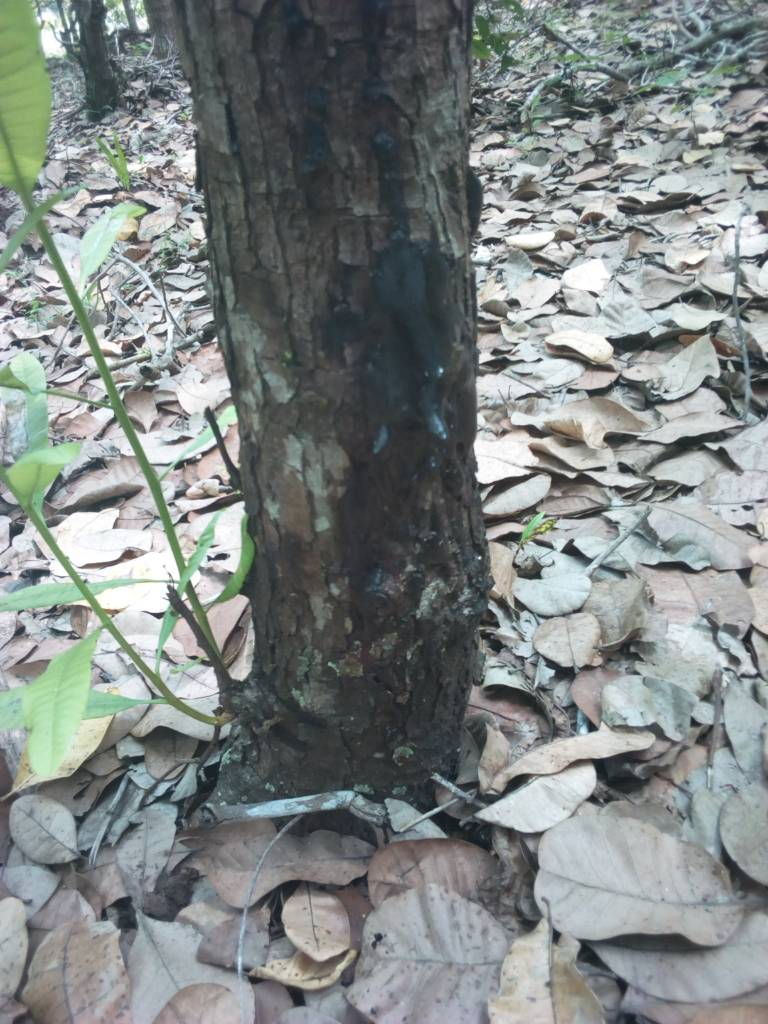Mecocorynus longiceps: (306, 216, 507, 502)
